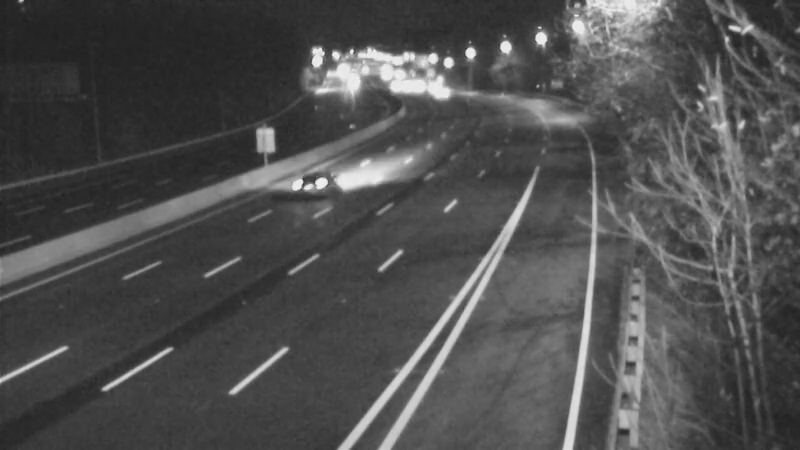vehicle: (267, 147, 347, 227), (417, 68, 467, 118), (327, 56, 377, 106)
